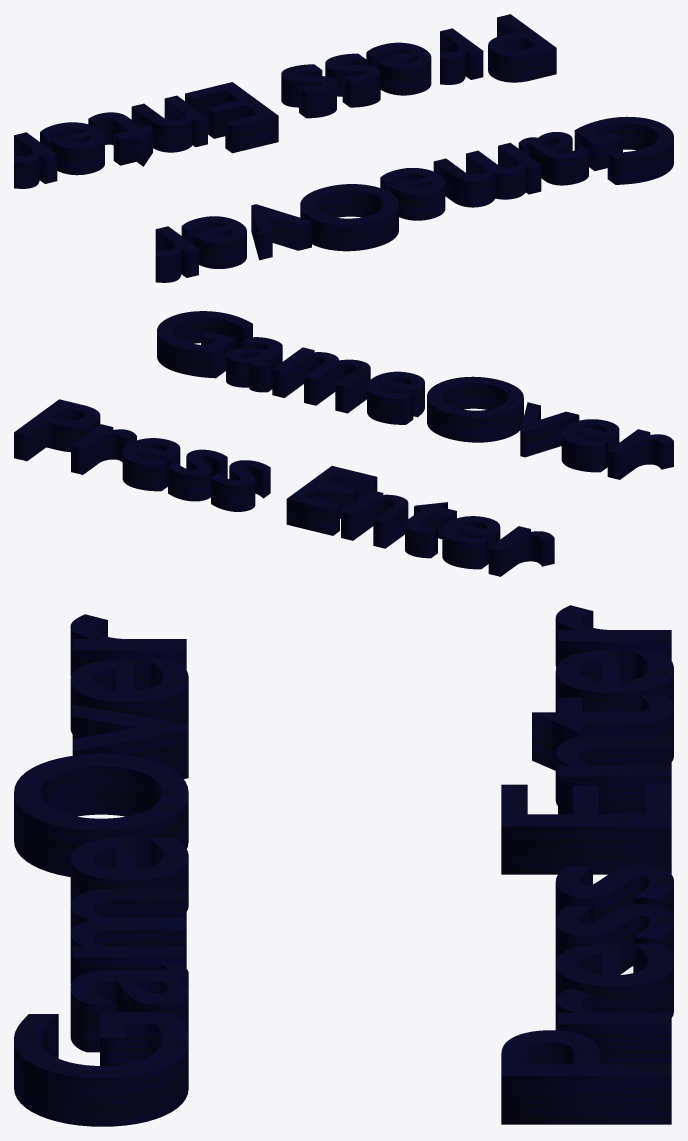
Rendered from GameOver.obj.
3 views of the same model, one above another, from view 1: azimuth 30°, elevation 25°; view 2: azimuth 150°, elevation 25°; view 3: azimuth 270°, elevation 25° (orthographic). The views are drawn at different scales.
Parts seen in each view (by area): view 1: テキスト; view 2: テキスト; view 3: テキスト.
Part boxes in pixels (box(x1,y1,x2,y2)): テキスト: box(14, 14, 673, 282); テキスト: box(14, 311, 673, 576); テキスト: box(14, 605, 673, 1126).
Size of the model in its own units: 4.61 by 0.22 by 2.72.
Materials: 1 (1 with a texture image).
